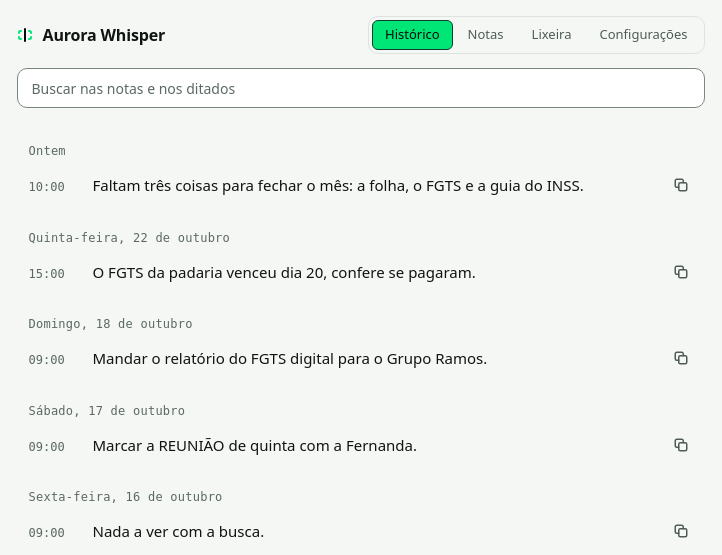
Test: os dois grupos › a nota sem título mostra só a linha que casa
In the search field labelled "Buscar nas notas e nos ditados": (360, 88) [16,68,704,108], type "cinco"
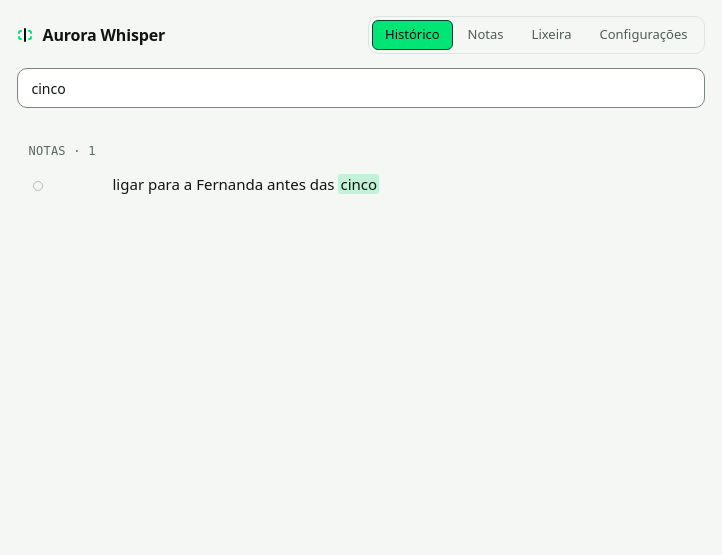
Check: the heading "Notas · 1" is shown, box [28,144,96,158]
Check: the button "ligar para a Fernanda antes das cinco" is shown, box [16,164,704,204]
